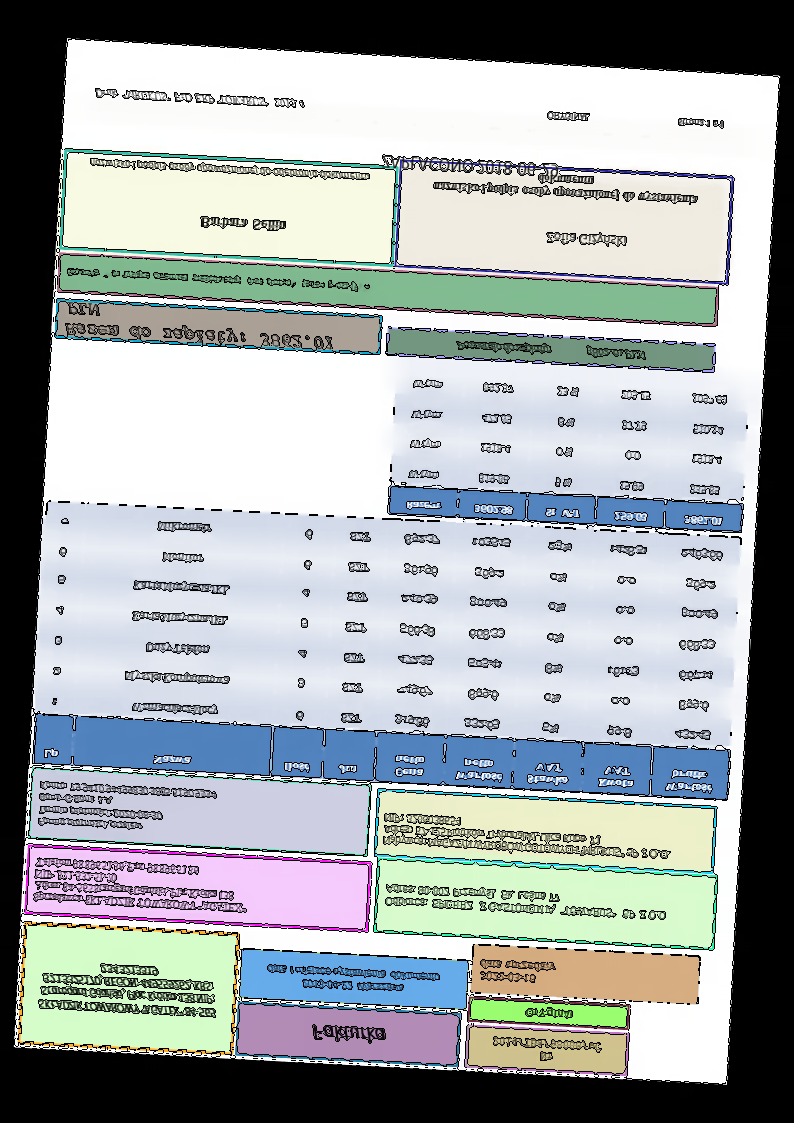Table: (31, 500, 742, 801), (387, 364, 750, 534)
TextBox: (380, 811, 672, 862), (63, 300, 335, 350), (30, 855, 249, 915), (383, 881, 673, 923), (35, 957, 219, 1021), (35, 777, 219, 838), (431, 167, 700, 206), (65, 265, 375, 294), (87, 155, 371, 185), (264, 961, 442, 998), (93, 86, 307, 111), (453, 338, 650, 362), (379, 152, 560, 178), (545, 109, 726, 131), (489, 1035, 604, 1067), (477, 956, 558, 987), (309, 1022, 387, 1045), (543, 229, 629, 249), (198, 215, 286, 233), (523, 1005, 576, 1022)
